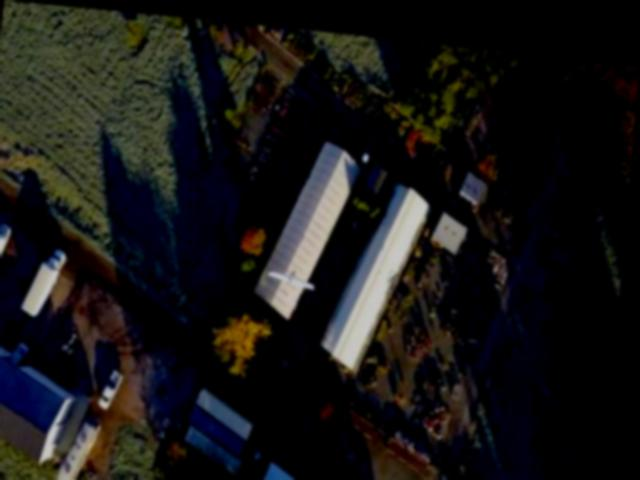uav: (265, 253, 328, 301)
